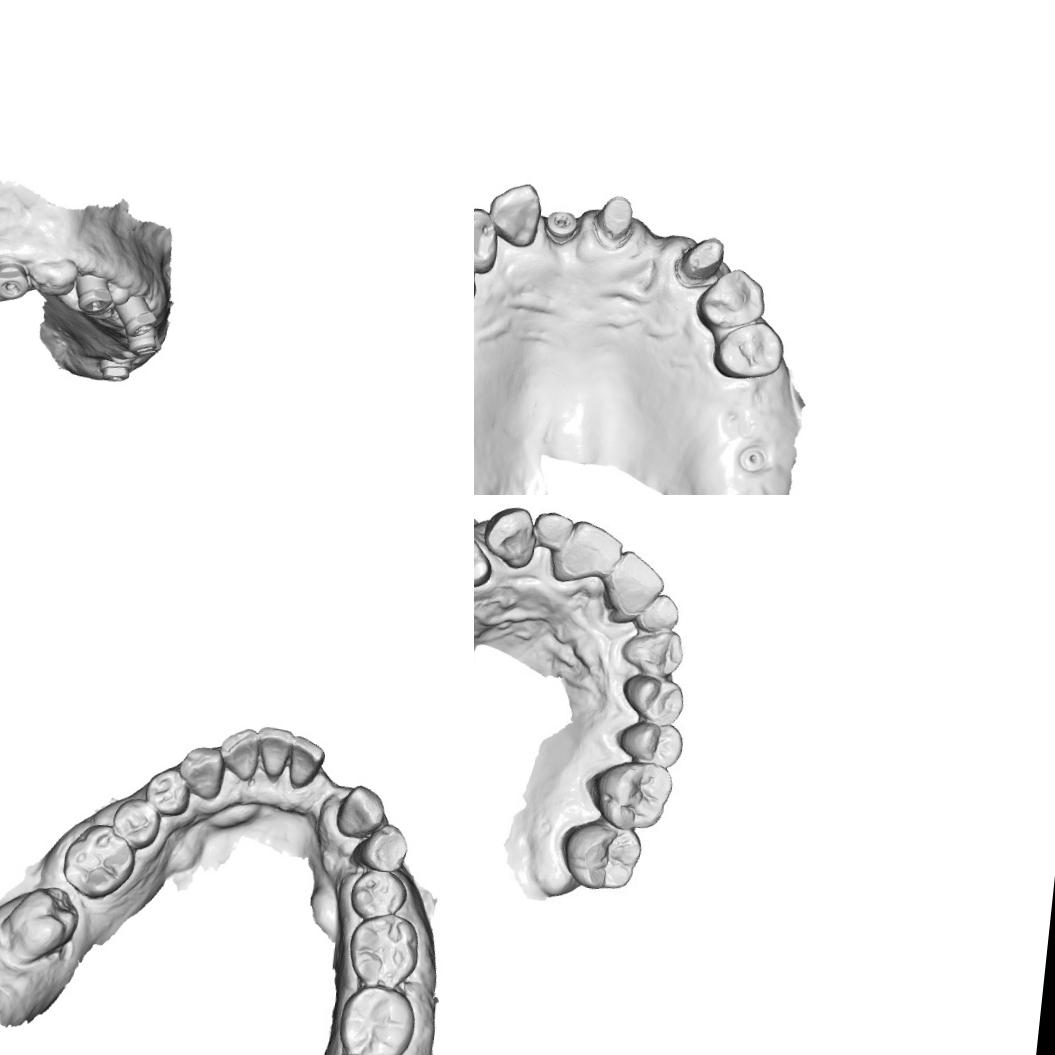canine: (481, 502, 539, 570), (616, 625, 684, 680), (352, 818, 410, 875), (174, 742, 226, 802), (474, 202, 502, 276)
crown: (672, 232, 730, 290), (590, 192, 638, 250)
implant: (117, 293, 158, 338), (124, 326, 158, 356)
implant_minus: (72, 265, 118, 316), (0, 256, 29, 301), (98, 354, 134, 384)
implant_plus: (539, 206, 581, 248)
incisor: (484, 178, 546, 250), (558, 518, 622, 587), (607, 548, 665, 620), (210, 719, 263, 788), (333, 780, 389, 842), (251, 716, 297, 786), (280, 733, 328, 792), (636, 590, 684, 636), (532, 507, 575, 550)
molar: (343, 908, 422, 998), (0, 881, 82, 965), (59, 819, 138, 904), (334, 982, 419, 1055), (560, 819, 642, 894), (590, 760, 672, 828)
premolar: (692, 264, 770, 336), (710, 315, 788, 385), (618, 669, 686, 729), (345, 864, 410, 924), (617, 719, 686, 769), (109, 792, 165, 851), (142, 765, 192, 819), (474, 530, 495, 590)
